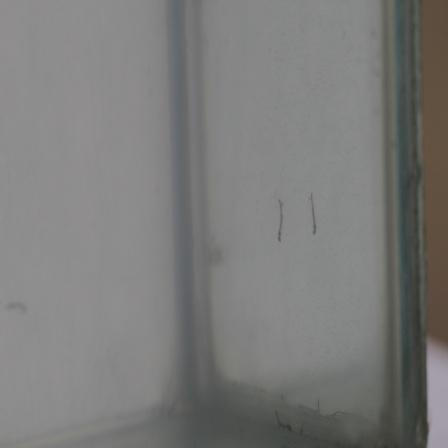Jentik-Nyamuk: (273, 194, 287, 249)
